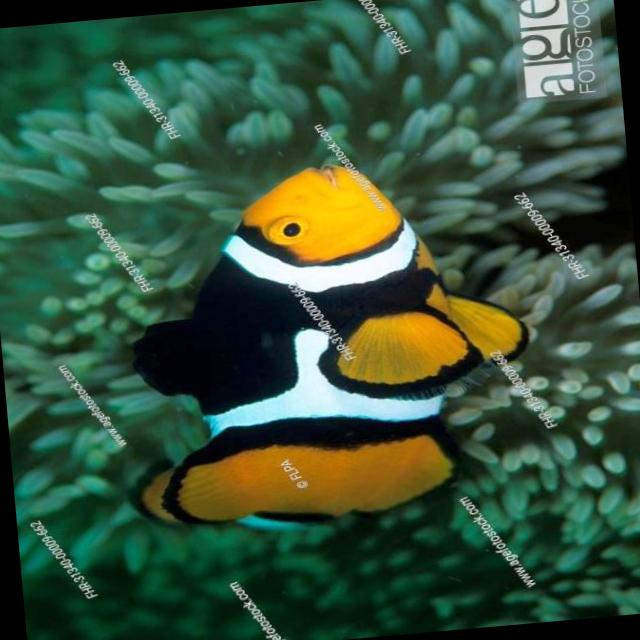ClownFish: (96, 147, 546, 538)
